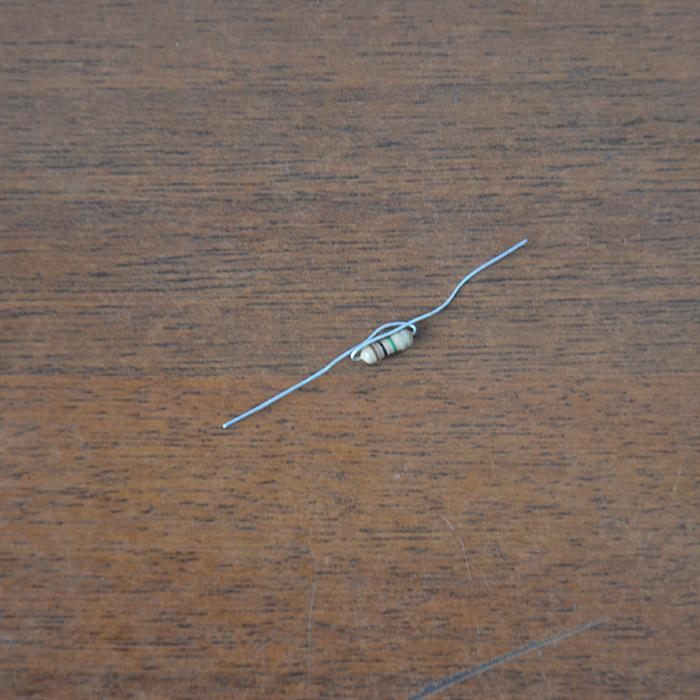resistor: (355, 325, 415, 364)
